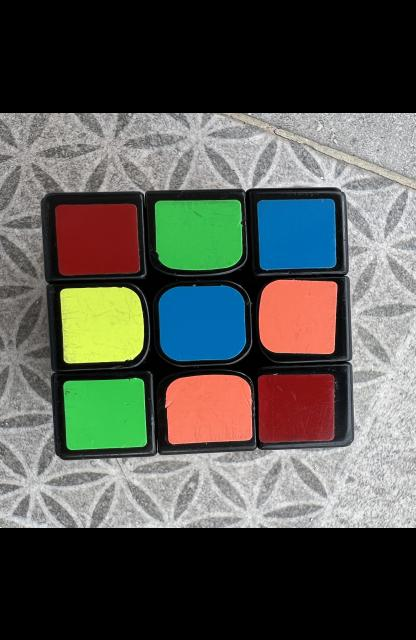Blue: (158, 284, 245, 360), (257, 198, 337, 269)
Green: (154, 199, 243, 269), (63, 377, 147, 449)
Orange: (166, 373, 252, 444), (259, 279, 338, 352)
Red: (56, 203, 139, 274), (258, 373, 334, 441)
Yellow: (61, 285, 144, 362)
